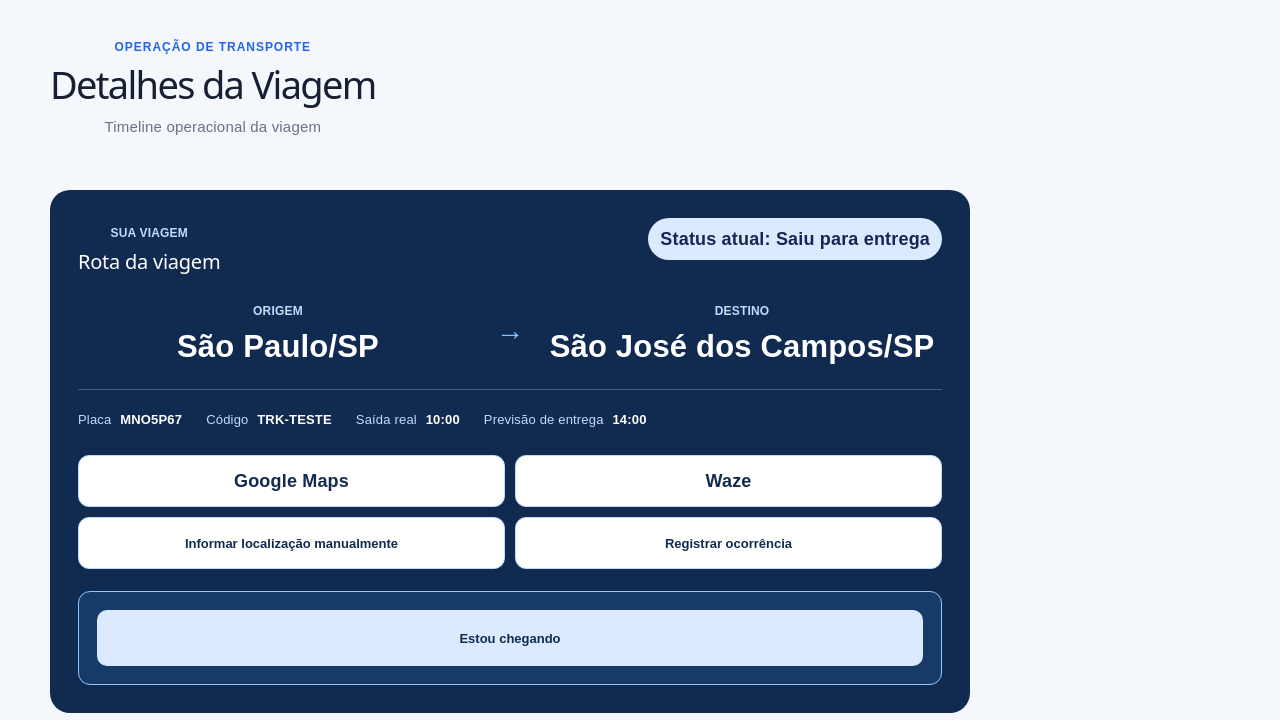
Test: detalhe operacional do motorista › envia aviso e aceita resposta idempotente=false sem GPS nem mudar status
The width and height of the screenshot is (1280, 720).
Click the button "Estou chegando".
click(510, 638)  # box [97,610,923,666]
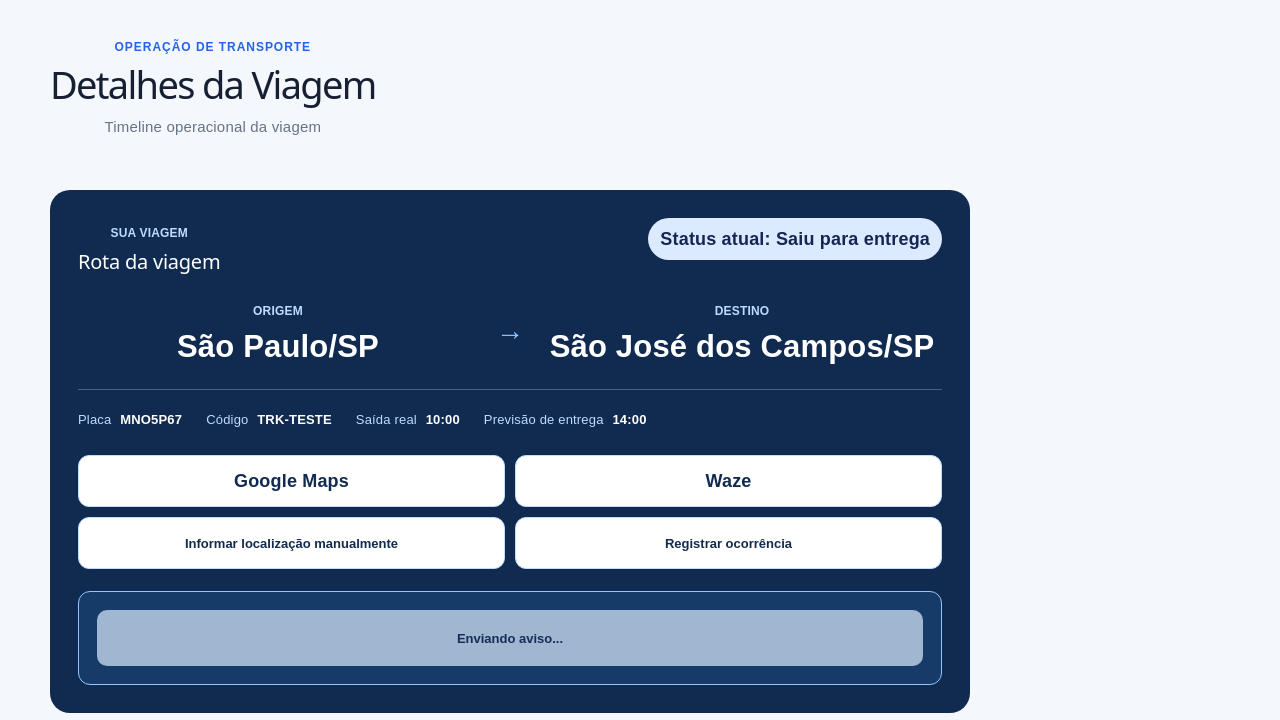
Expected: the button "Enviando aviso..." is disabled
Click the button "Enviando aviso...".
click(510, 638)  # box [97,610,923,666]
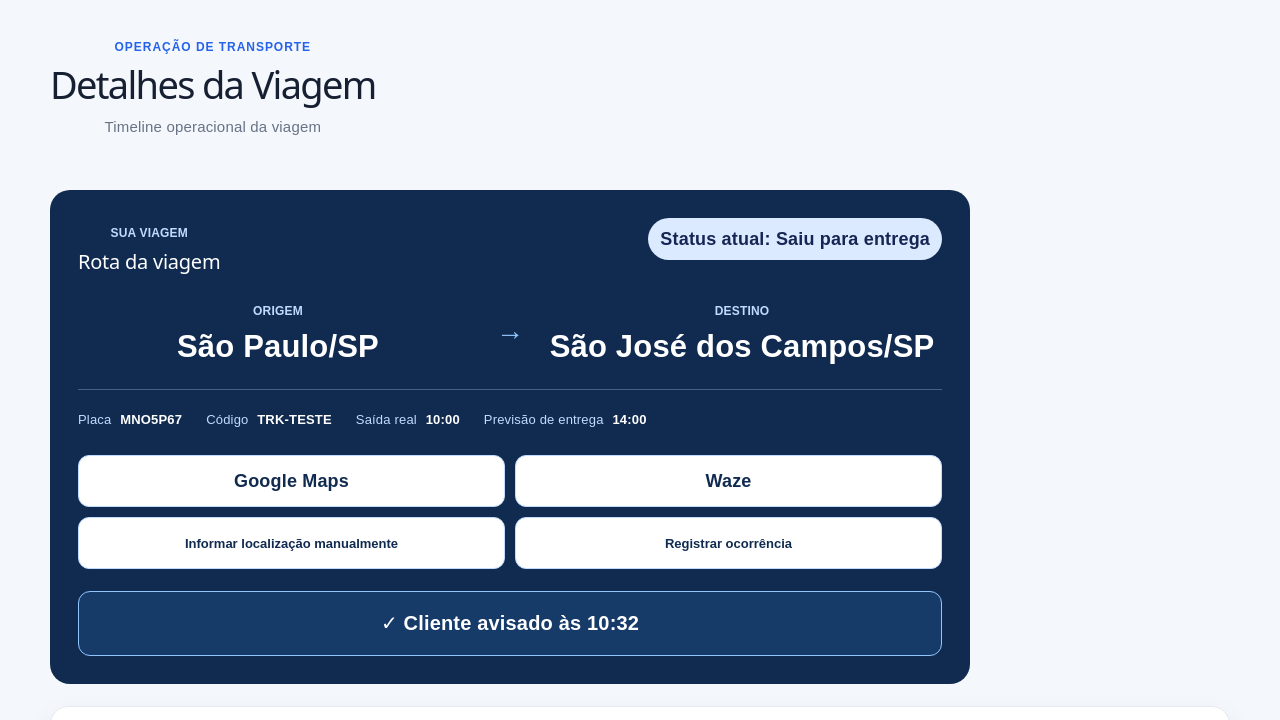
Expected: the text "Status atual: Saiu para entrega" is shown, [648,218,942,260]
Expected: the text "✓ Cliente avisado às 10:32" is shown, [381,612,639,634]
